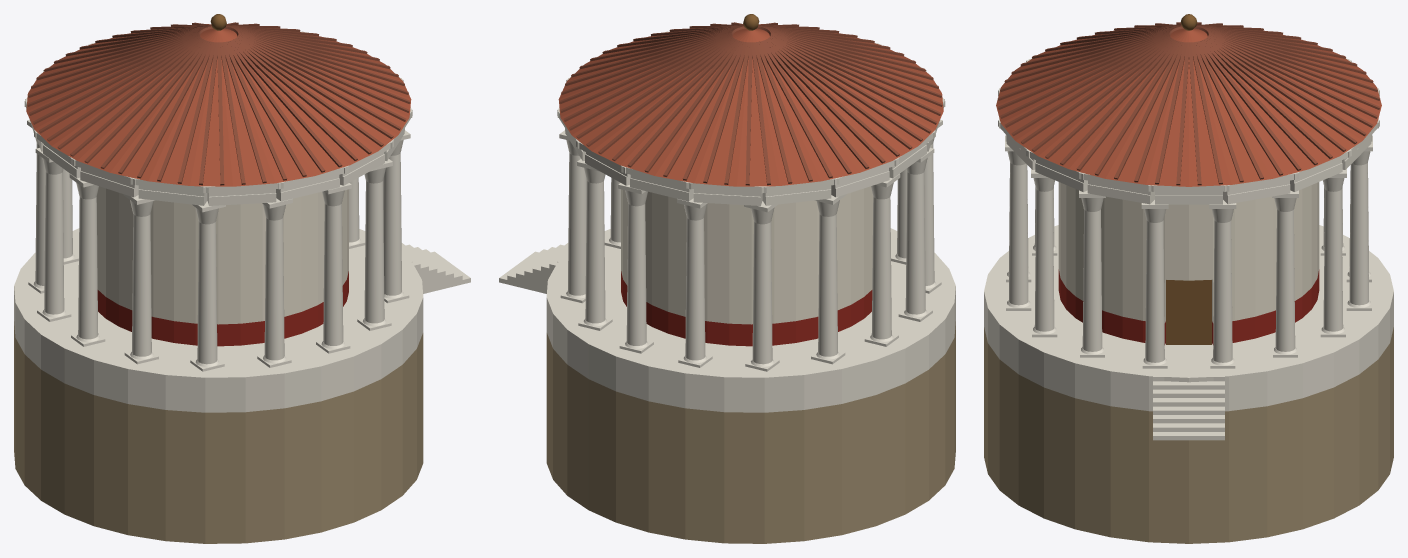
Rendered from ant_tholos.glb.
The picture shows the model from 3 angles, left to right: view 1: azimuth 30°, elevation 25°; view 2: azimuth 150°, elevation 25°; view 3: azimuth 270°, elevation 25°; orthographic projection.
Visible parts, largest first — view 1: ant_tholos; view 2: ant_tholos; view 3: ant_tholos.
Boxes of the visible parts, <box> form: ant_tholos: <box>14,14,470,543</box>; ant_tholos: <box>499,14,955,543</box>; ant_tholos: <box>984,14,1393,543</box>.
Bounding box in the file's own units: 19.7 × 20.25 × 17.
